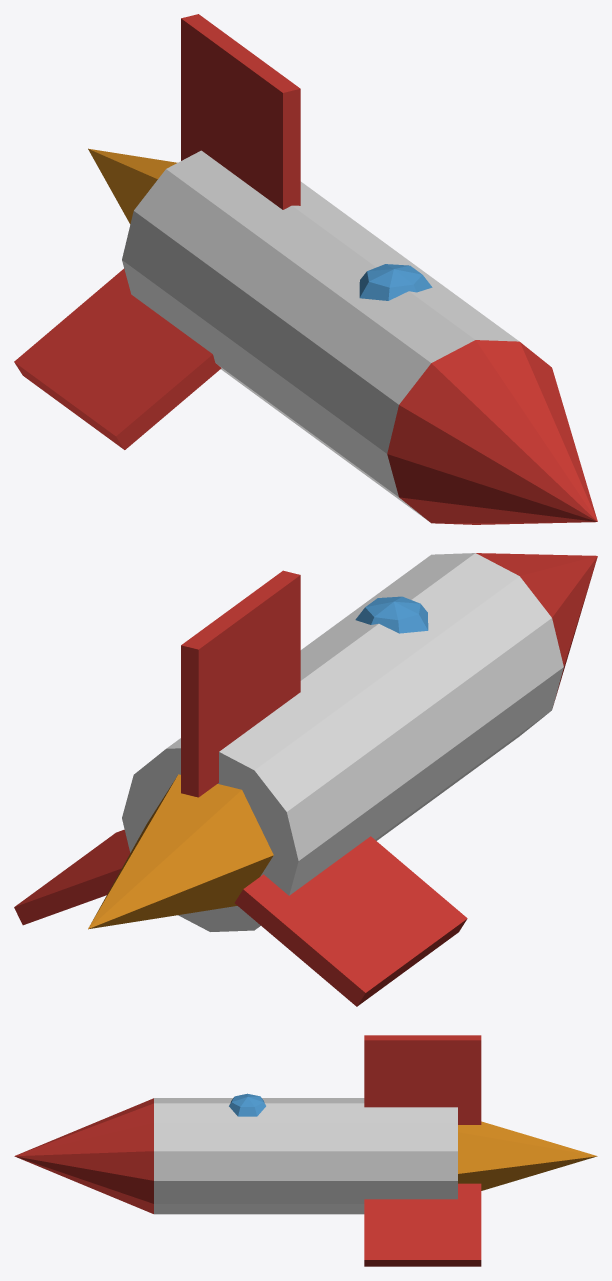
File: rocket.glb
3 renders of one model, top to bottom at view 1: azimuth 30°, elevation 25°; view 2: azimuth 150°, elevation 25°; view 3: azimuth 270°, elevation 25°, orthographic. The views are drawn at different scales.
Parts seen in each view (by area): view 1: rocket; view 2: rocket; view 3: rocket.
Part boxes in pixels (x1,y1,x2,y2): rocket: [14, 14, 597, 524]; rocket: [14, 553, 597, 1006]; rocket: [14, 1035, 597, 1266].
Bounding box in the file's own units: 0.9949 × 0.8617 × 2.5.
